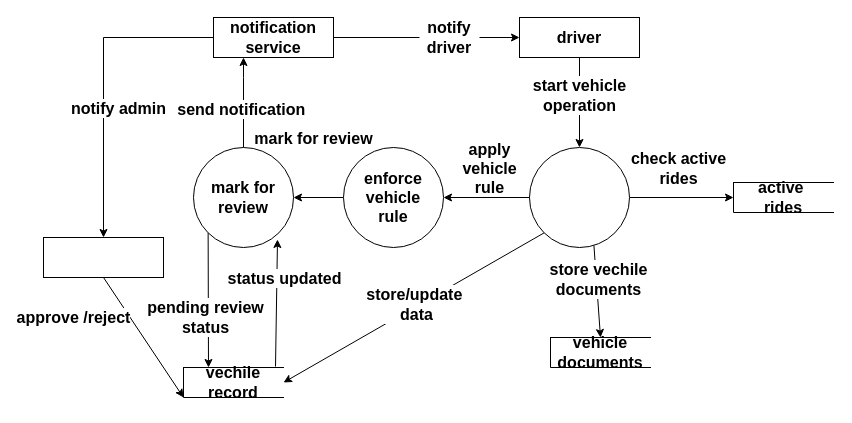
This 852x423 diagram has some shape labels left out. The centre of each missing label's shape, as x and y in pixels:
"add/delete/ update vechile" belongs at point (579, 197).
"admin" belongs at point (103, 257).
